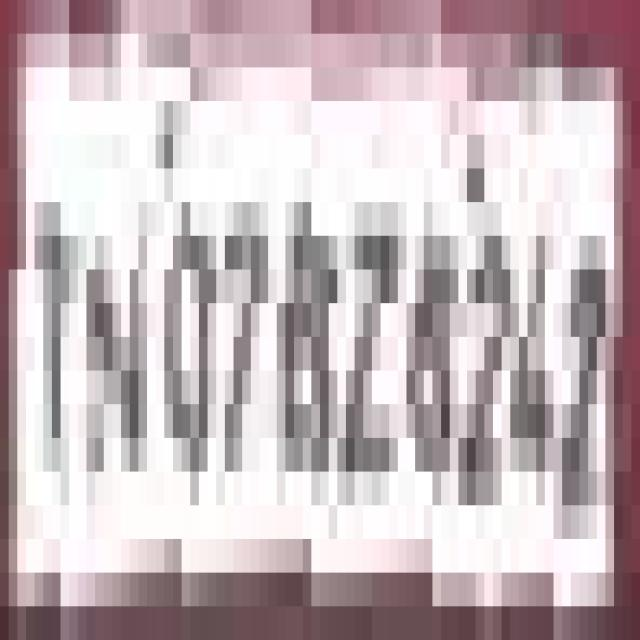license_plate: (8, 0, 605, 606)
